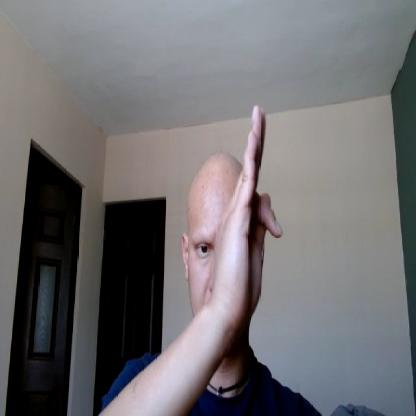F: (214, 101, 282, 320)
